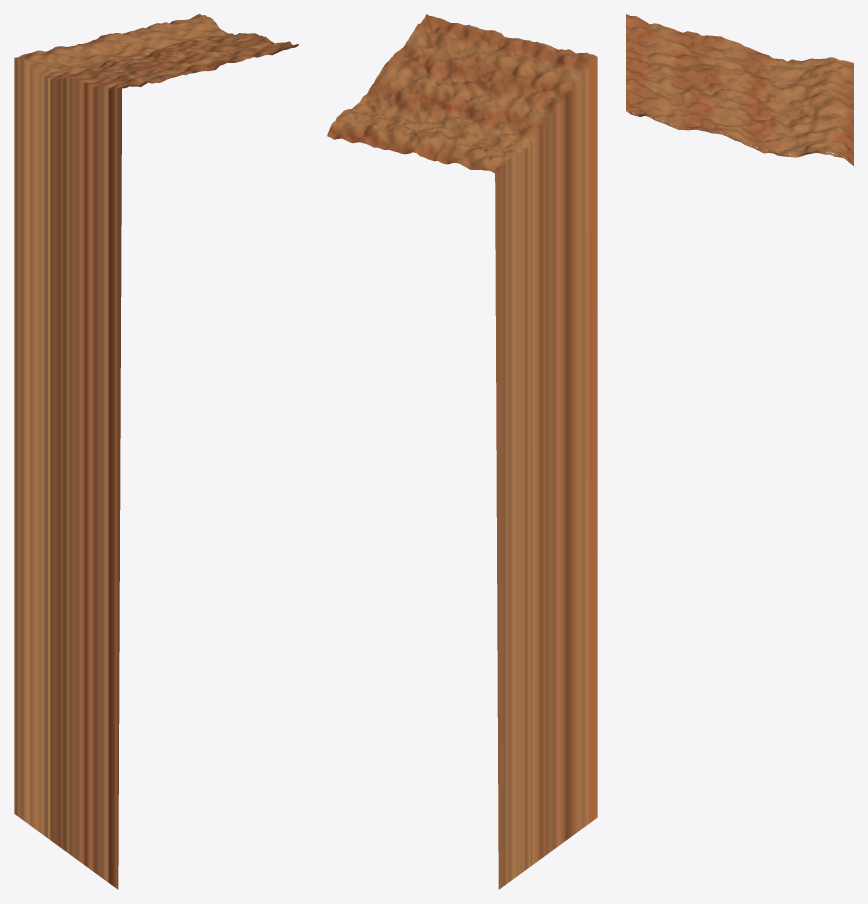
The model's file is terrain-123.glb.
The picture shows the model from 3 angles, left to right: view 1: azimuth 30°, elevation 25°; view 2: azimuth 150°, elevation 25°; view 3: azimuth 270°, elevation 25°; orthographic projection. The views are drawn at different scales.
Parts seen in each view (by area): view 1: terrain-123; view 2: terrain-123; view 3: terrain-123.
Boxes of the visible parts, x1=… form: terrain-123: x1=14, y1=14, x2=298, y2=889; terrain-123: x1=327, y1=14, x2=597, y2=889; terrain-123: x1=626, y1=14, x2=853, y2=165.
Bounding box in the file's own units: 384 × 1633 × 384.
